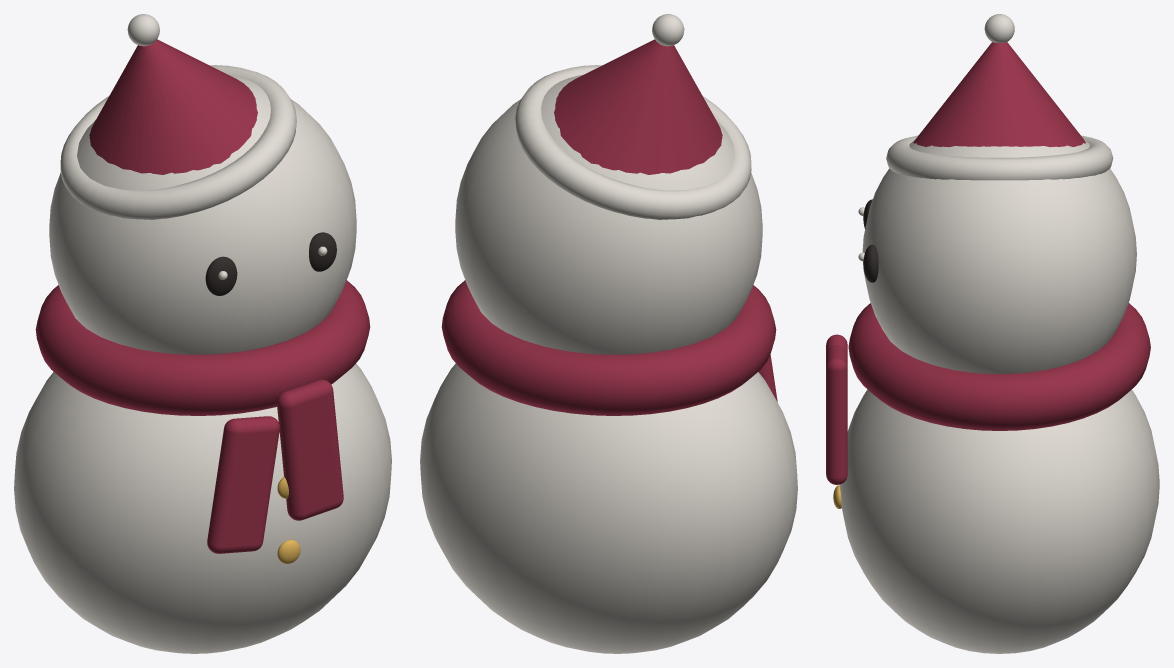
Rendered from snowman.glb.
3 views of the same model, side by side, from view 1: azimuth 30°, elevation 25°; view 2: azimuth 150°, elevation 25°; view 3: azimuth 270°, elevation 25° (orthographic). The views are drawn at different scales.
Parts seen in each view (by area): view 1: Snowman_Body, Snowman_Head, Snowman_Pointy_Hat, Snowman_Scarf_Fabric_L, Snowman_Scarf_Fabric_R, Snowman_Eye_L, Snowman_Eye_R; view 2: Snowman_Body, Snowman_Head, Snowman_Pointy_Hat; view 3: Snowman_Body, Snowman_Head, Snowman_Pointy_Hat, Snowman_Scarf_Fabric_R, Snowman_Eye_R.
Boxes of the visible parts, box(x1,y1,x2,y2) form: Snowman_Body: box(14, 280, 391, 653); Snowman_Head: box(49, 75, 356, 354); Snowman_Pointy_Hat: box(60, 14, 296, 219); Snowman_Scarf_Fabric_L: box(207, 416, 279, 553); Snowman_Scarf_Fabric_R: box(277, 379, 343, 520); Snowman_Eye_L: box(205, 256, 237, 295); Snowman_Eye_R: box(309, 232, 336, 271); Snowman_Body: box(420, 280, 797, 653); Snowman_Head: box(455, 75, 762, 354); Snowman_Pointy_Hat: box(515, 14, 751, 219); Snowman_Body: box(833, 303, 1159, 653); Snowman_Head: box(862, 139, 1136, 374); Snowman_Pointy_Hat: box(886, 14, 1113, 180); Snowman_Scarf_Fabric_R: box(826, 345, 847, 484); Snowman_Eye_R: box(858, 244, 878, 282).
Bounding box in the file's own units: 0.76 × 1.37 × 0.6969.
